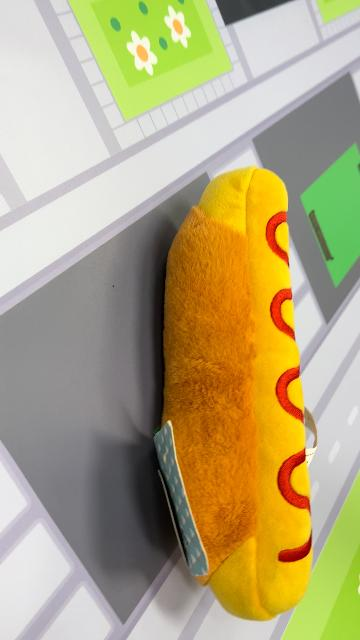hotdog: (154, 165, 316, 623)
